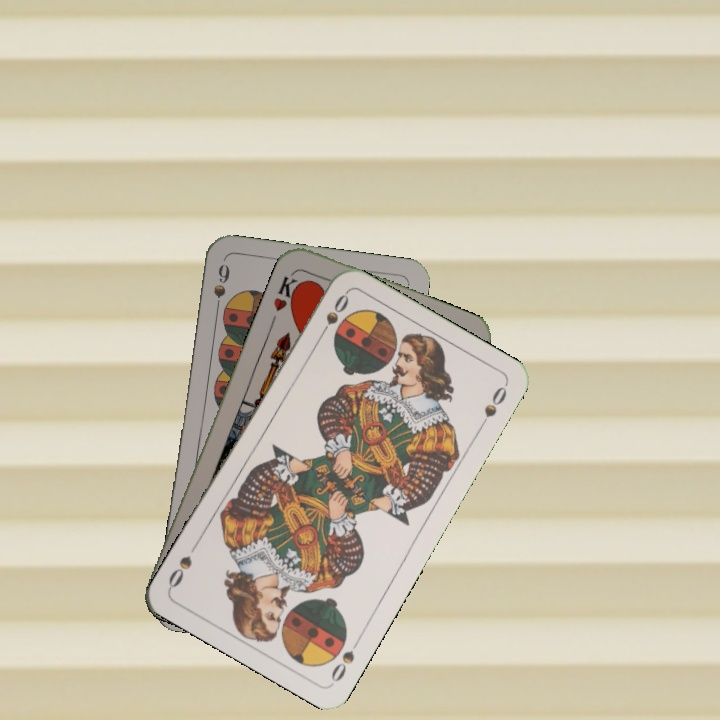HK: (269, 268, 305, 315)
S9: (209, 260, 233, 318)
SO: (314, 289, 352, 343), (327, 633, 364, 685)
